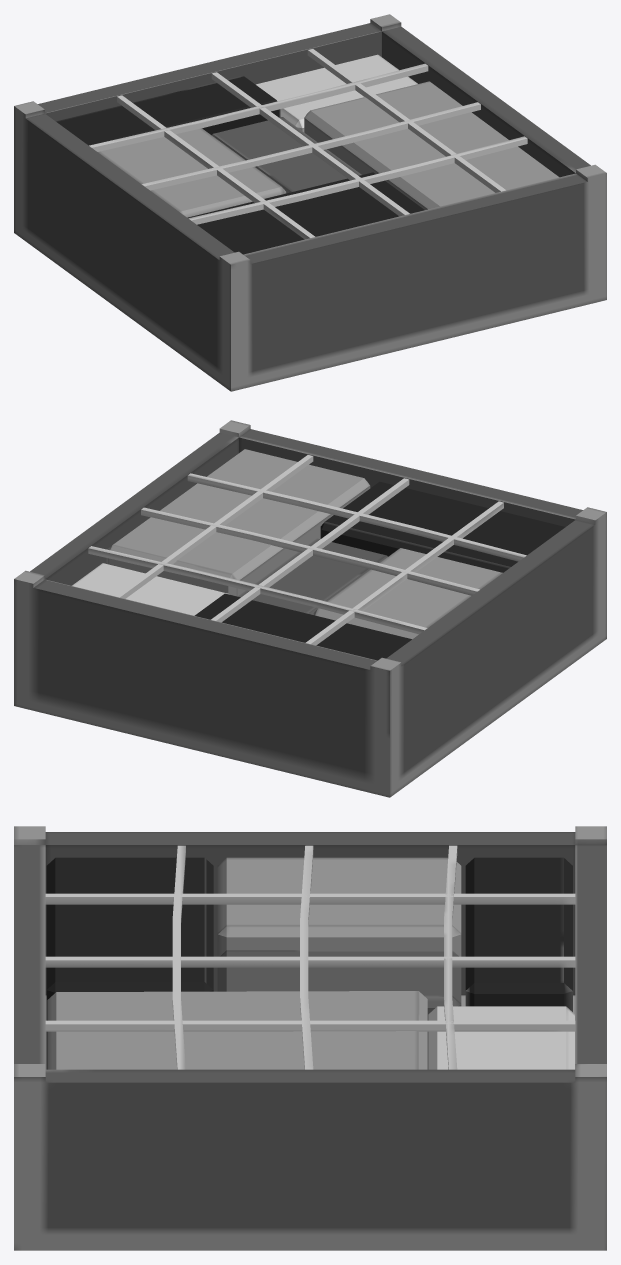
Rendered from Storage_C.fbx.
3 renders of one model, top to bottom at view 1: azimuth 30°, elevation 25°; view 2: azimuth 150°, elevation 25°; view 3: azimuth 270°, elevation 25°, orthographic. The views are drawn at different scales.
Visible parts, largest first — view 1: Storage_C; view 2: Storage_C; view 3: Storage_C.
Boxes of the visible parts, bbox=[...] form: Storage_C: bbox=[14, 14, 606, 391]; Storage_C: bbox=[14, 420, 606, 797]; Storage_C: bbox=[14, 826, 606, 1250].
Bounding box in the file's own units: 200 × 64.53 × 200.
